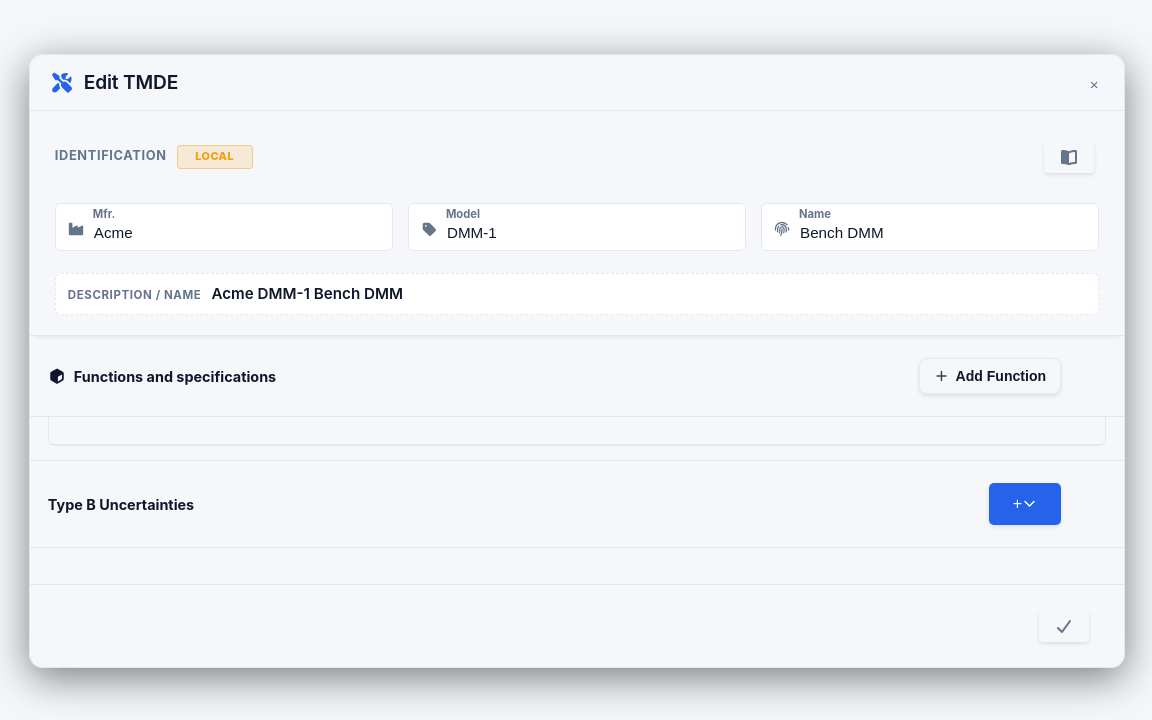
Test: UniversalInstrumentModal library synchronization › shows Type B as a matching section with a header add action
(page scrolled)
Expected: the heading "Type B Uncertainties" is shown, [48, 493, 194, 516]
Expected: the text "Type B Uncertainties" is shown, [48, 496, 194, 513]
Click the button named "Add Type B".
click(1025, 504)  # box [989, 483, 1061, 525]
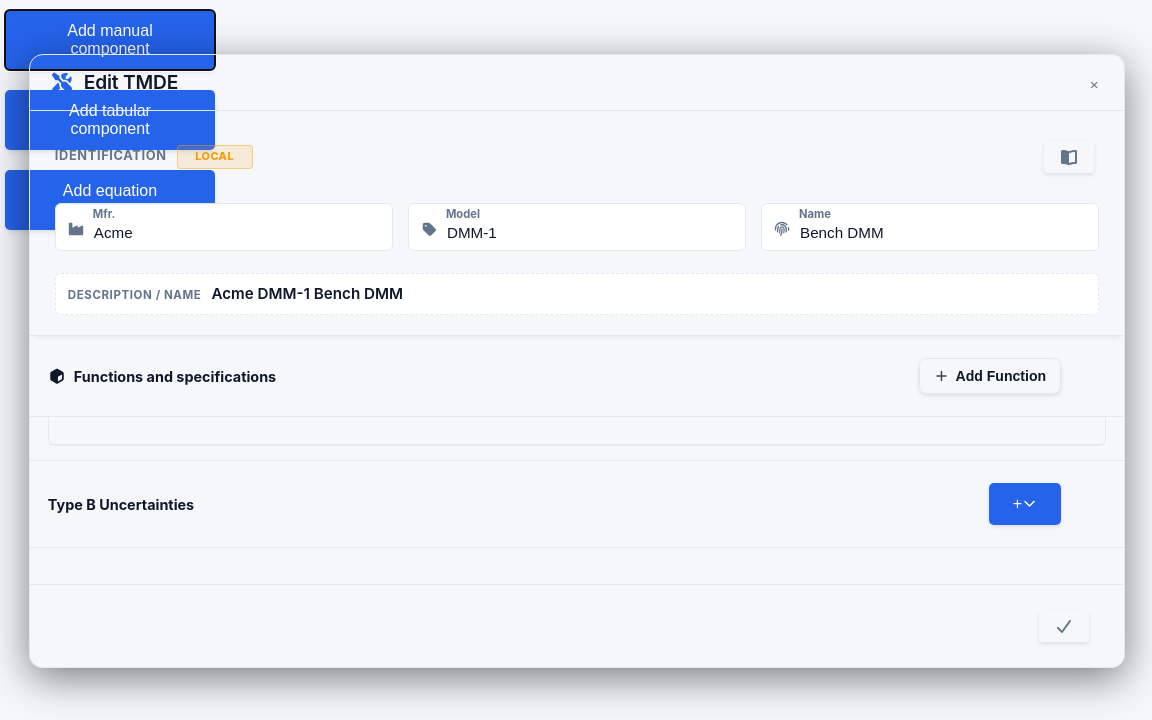
Click the option "Add manual component".
click(110, 40)  # box [5, 10, 215, 70]
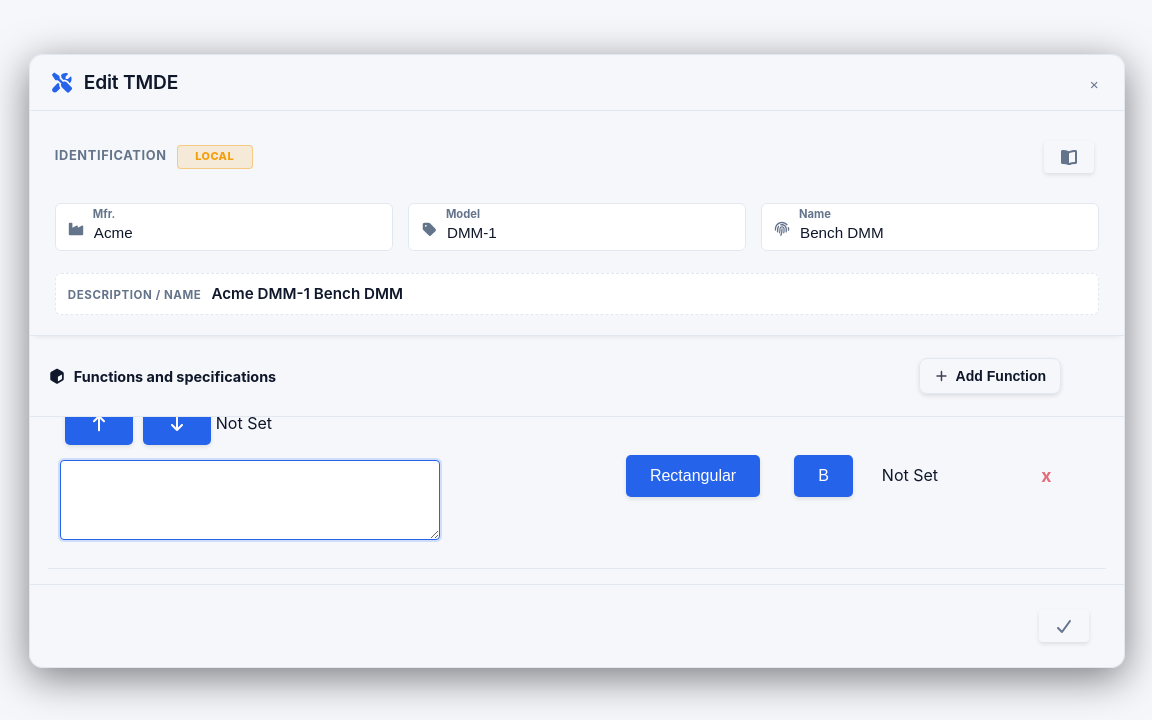
Expected: the text box named "Error source name" is shown, [60, 460, 440, 540]
